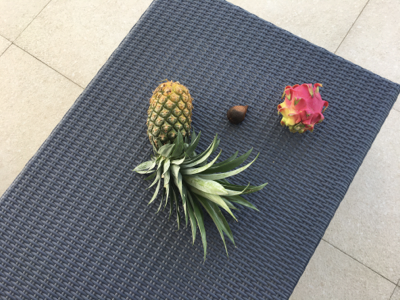dragon fruit: (277, 82, 328, 136)
pineapple: (134, 82, 269, 260)
snake fruit: (228, 104, 250, 123)
